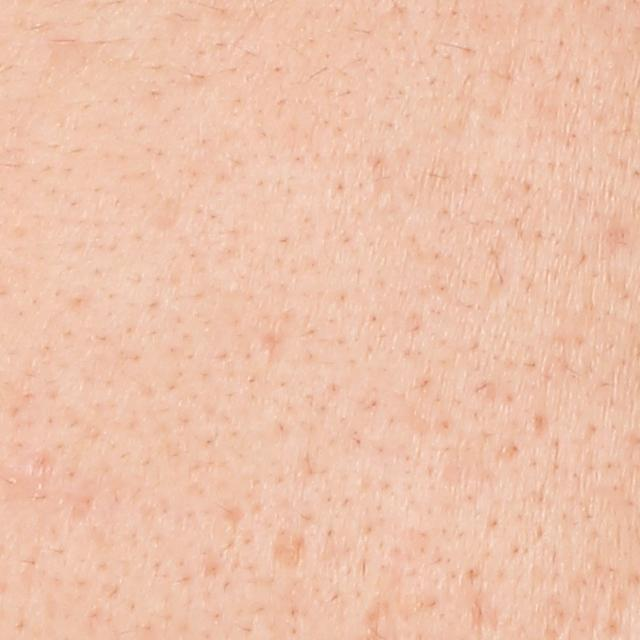atrophic_scar: (360, 151, 398, 215), (266, 525, 307, 574), (468, 590, 504, 640), (255, 328, 290, 375), (58, 486, 94, 530), (219, 501, 251, 539), (533, 412, 552, 439)
